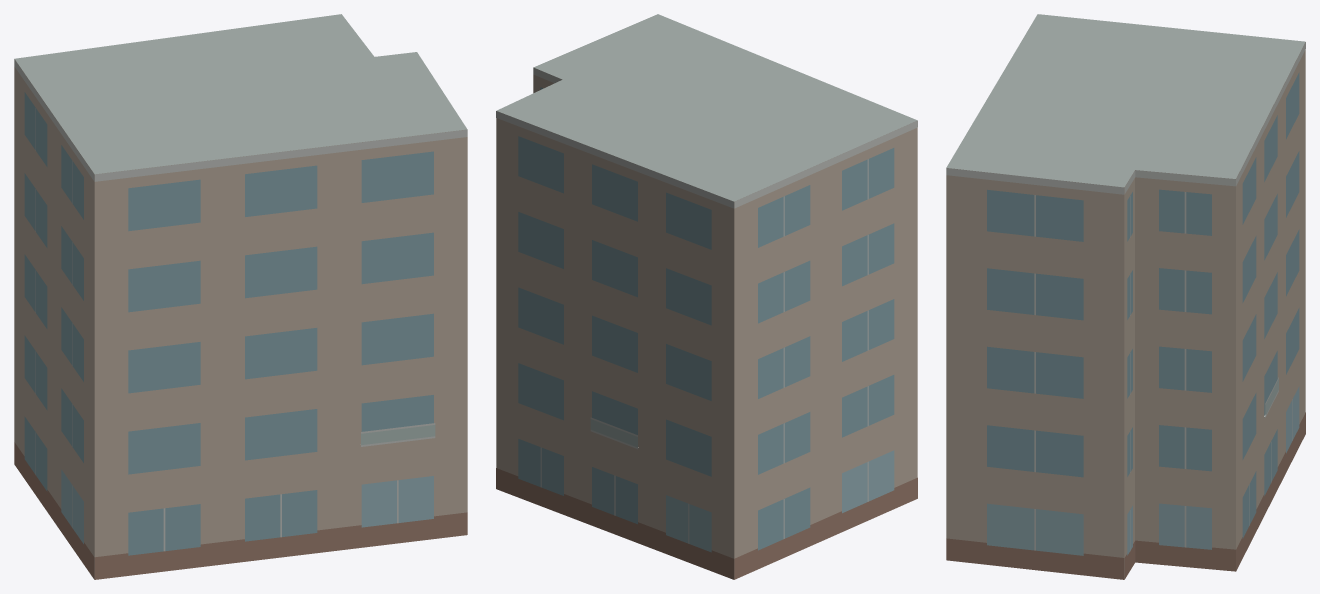
Rendered from survey-upis-32754732.glb.
The picture shows the model from 3 angles, left to right: view 1: azimuth 30°, elevation 25°; view 2: azimuth 150°, elevation 25°; view 3: azimuth 270°, elevation 25°; orthographic projection. The views are drawn at different scales.
Visible parts, largest first — view 1: survey-upis-32754732.tmp; view 2: survey-upis-32754732.tmp; view 3: survey-upis-32754732.tmp.
Boxes of the visible parts, x1=… form: survey-upis-32754732.tmp: x1=14, y1=14, x2=467, y2=579; survey-upis-32754732.tmp: x1=496, y1=14, x2=917, y2=579; survey-upis-32754732.tmp: x1=946, y1=14, x2=1305, y2=579.
Bounding box in the file's own units: 12.43 × 13.1 × 10.89.
